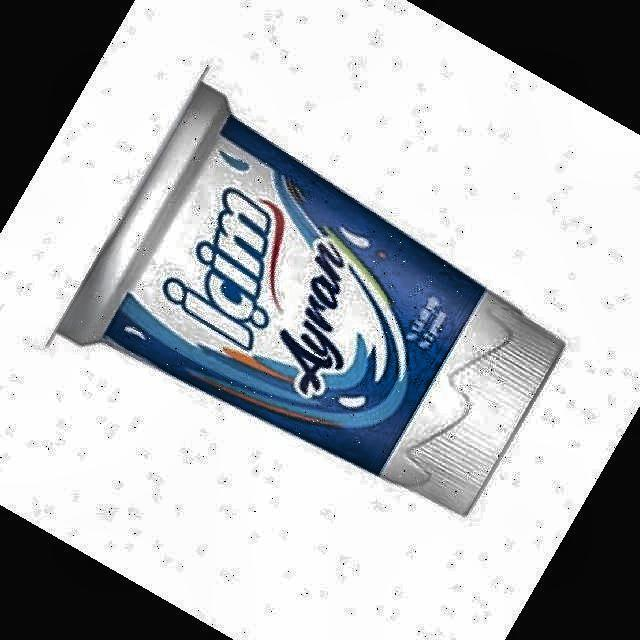plastic: (58, 84, 561, 512)
